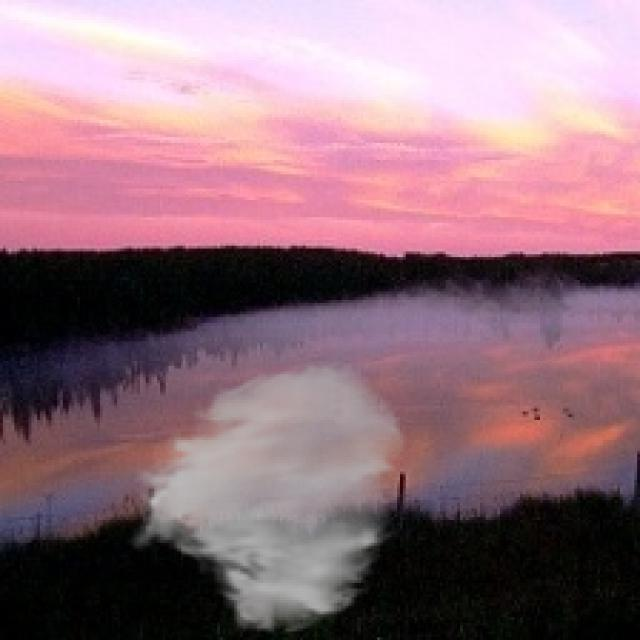Smoke: (125, 360, 408, 637)
